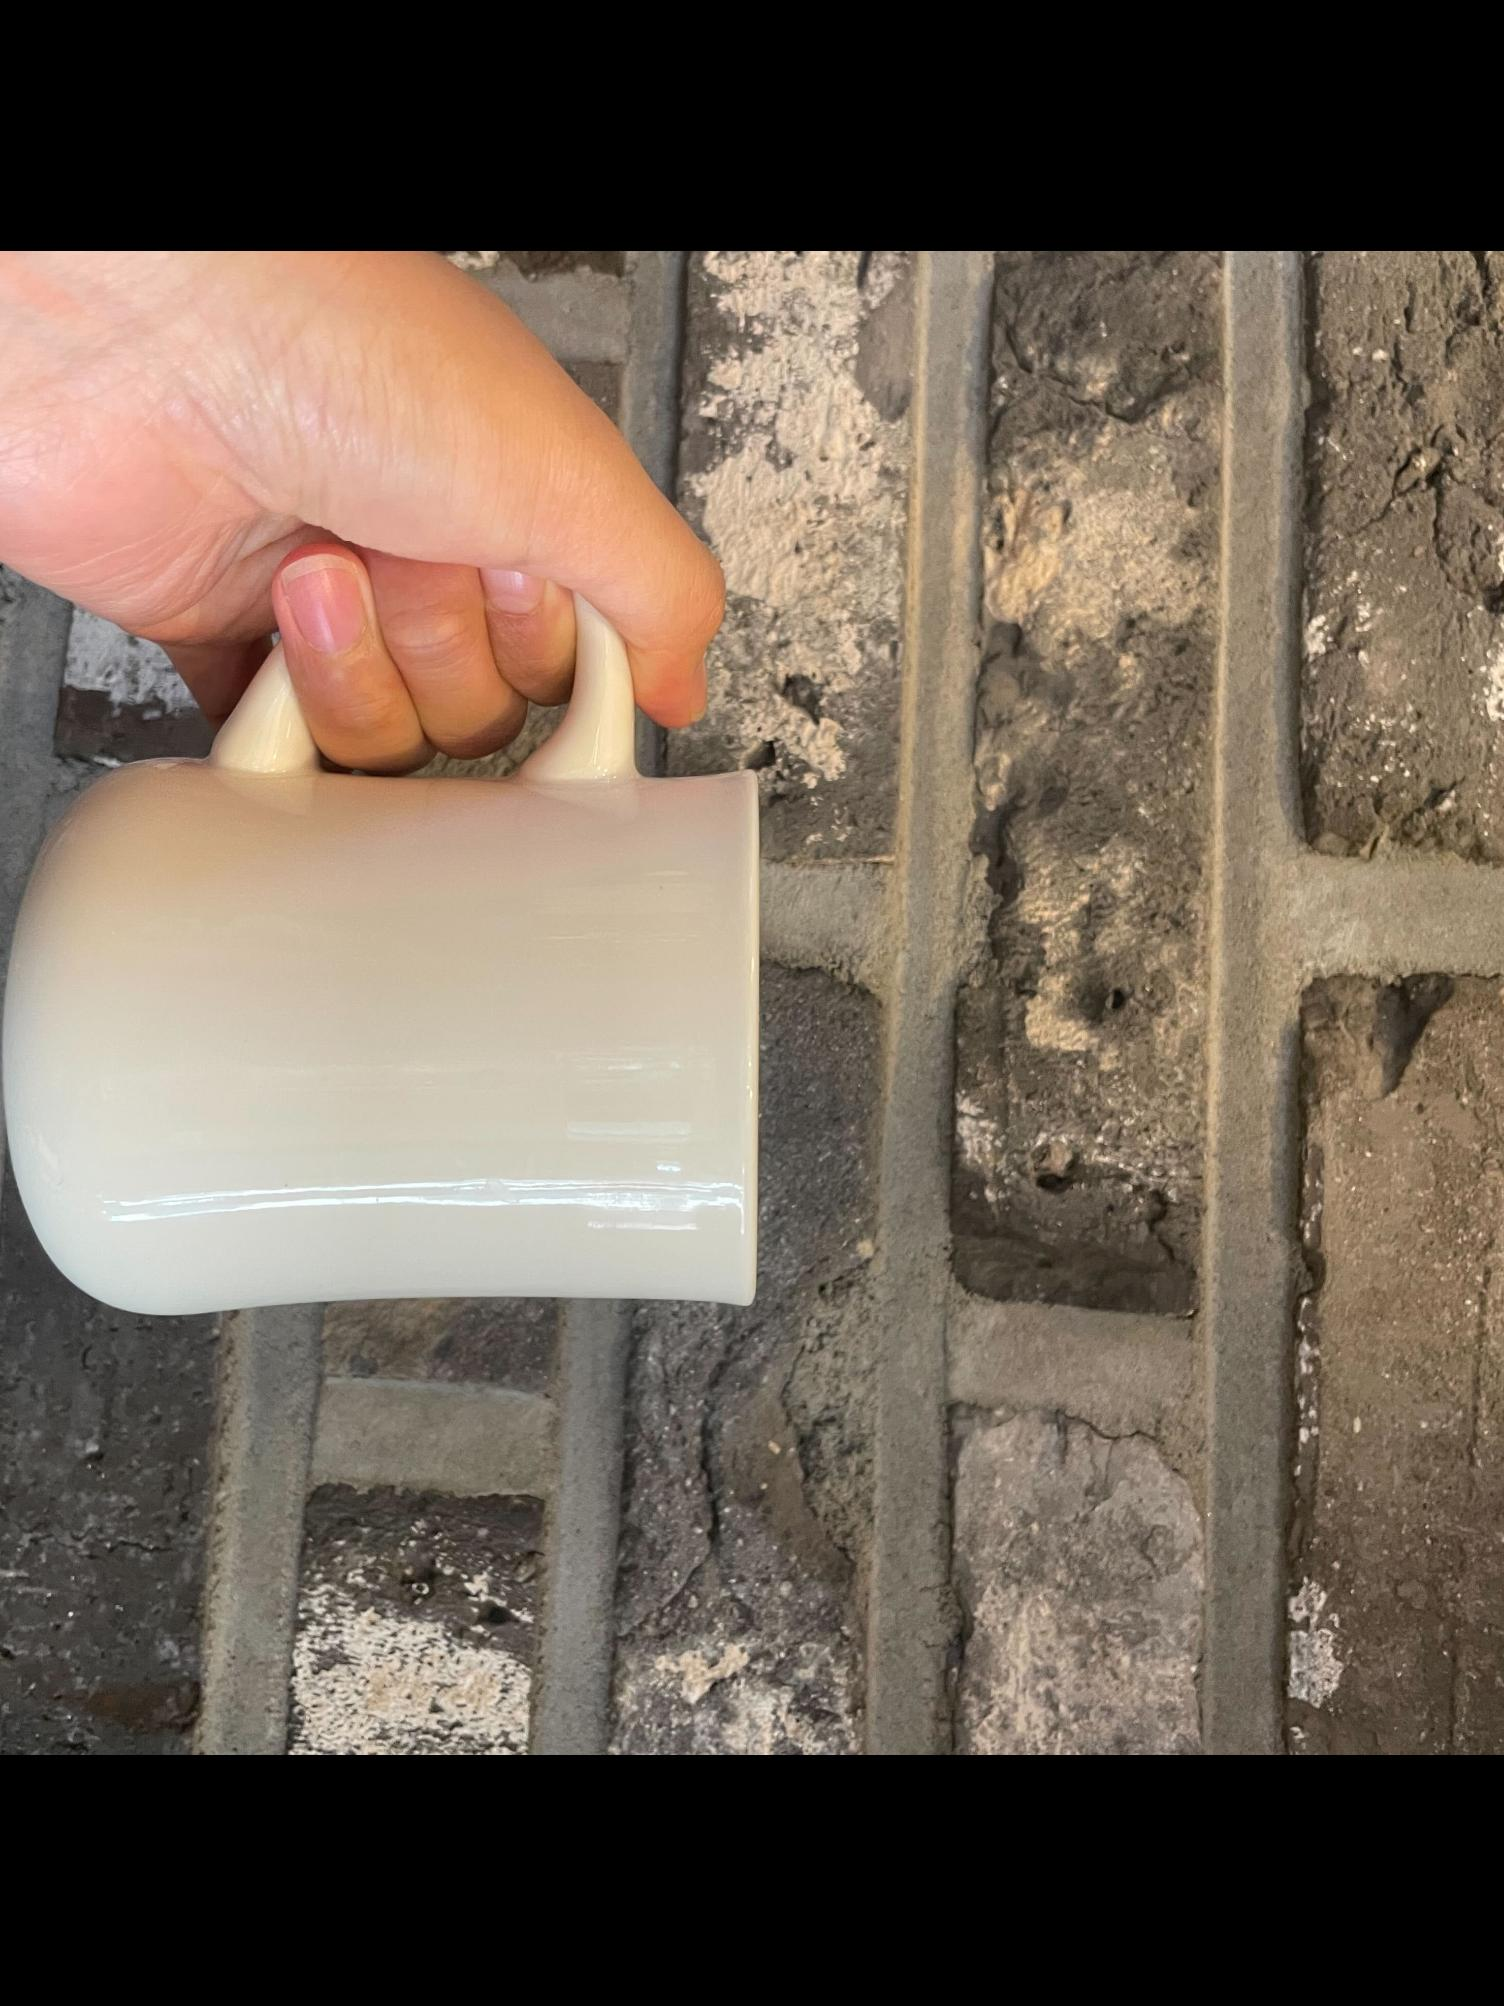cup: (0, 251, 784, 1333)
